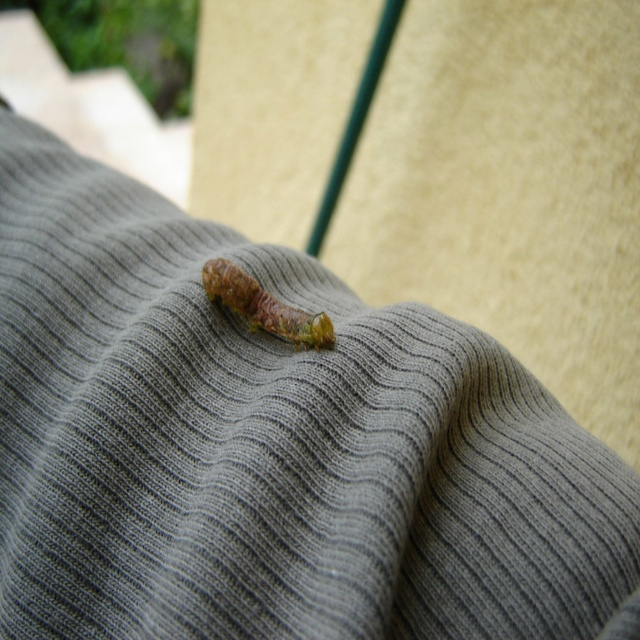Caterpillar: (201, 254, 334, 351)
